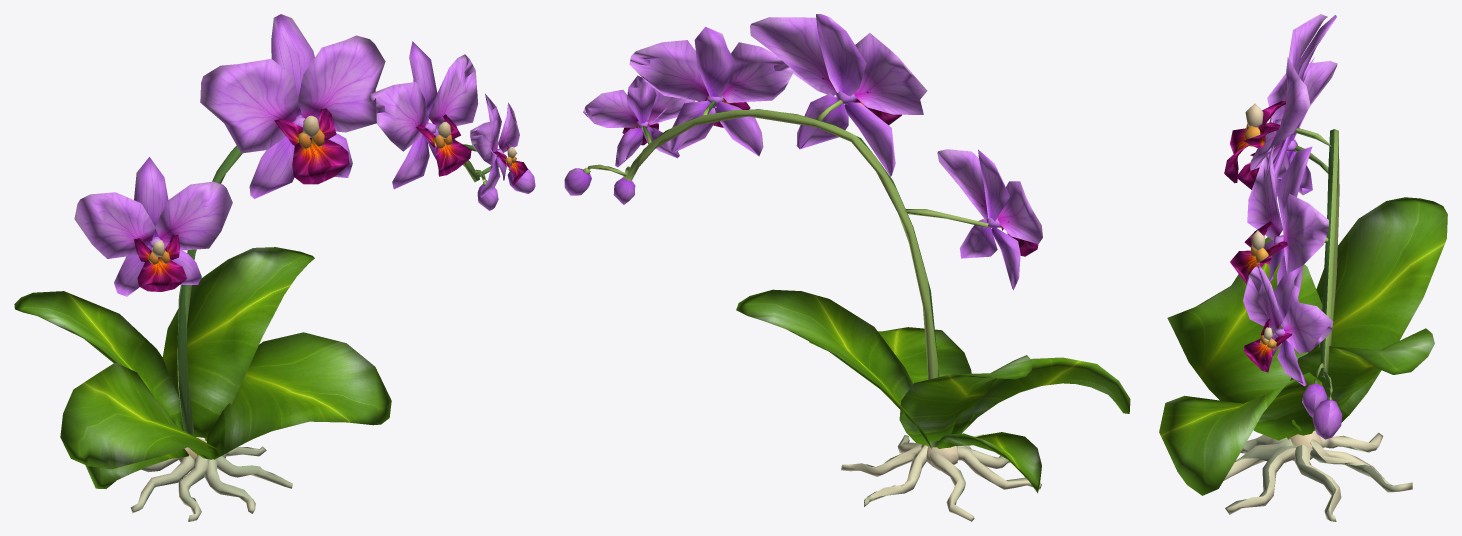
File: NP_Orchid_Ready_LOD1.fbx
3 views of the same model, side by side, from view 1: azimuth 30°, elevation 25°; view 2: azimuth 150°, elevation 25°; view 3: azimuth 270°, elevation 25° (orthographic). The views are drawn at different scales.
Visible parts, largest first — view 1: NP_Orchid_Ready; view 2: NP_Orchid_Ready; view 3: NP_Orchid_Ready.
Boxes of the visible parts, left/top/right/bottom form: NP_Orchid_Ready: left=14, top=14, right=535, bottom=521; NP_Orchid_Ready: left=564, top=14, right=1130, bottom=521; NP_Orchid_Ready: left=1159, top=14, right=1447, bottom=521.
Bounding box in the file's own units: 131 × 107 × 54.22.
